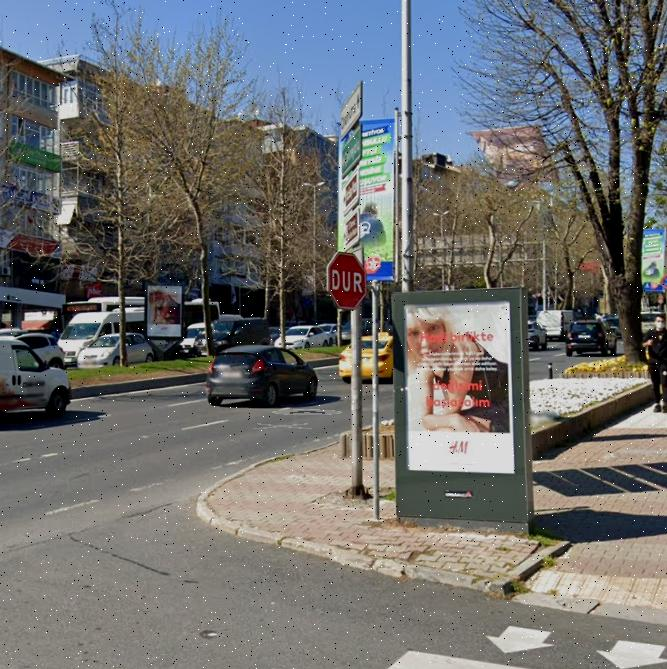stop: (328, 254, 368, 308)
